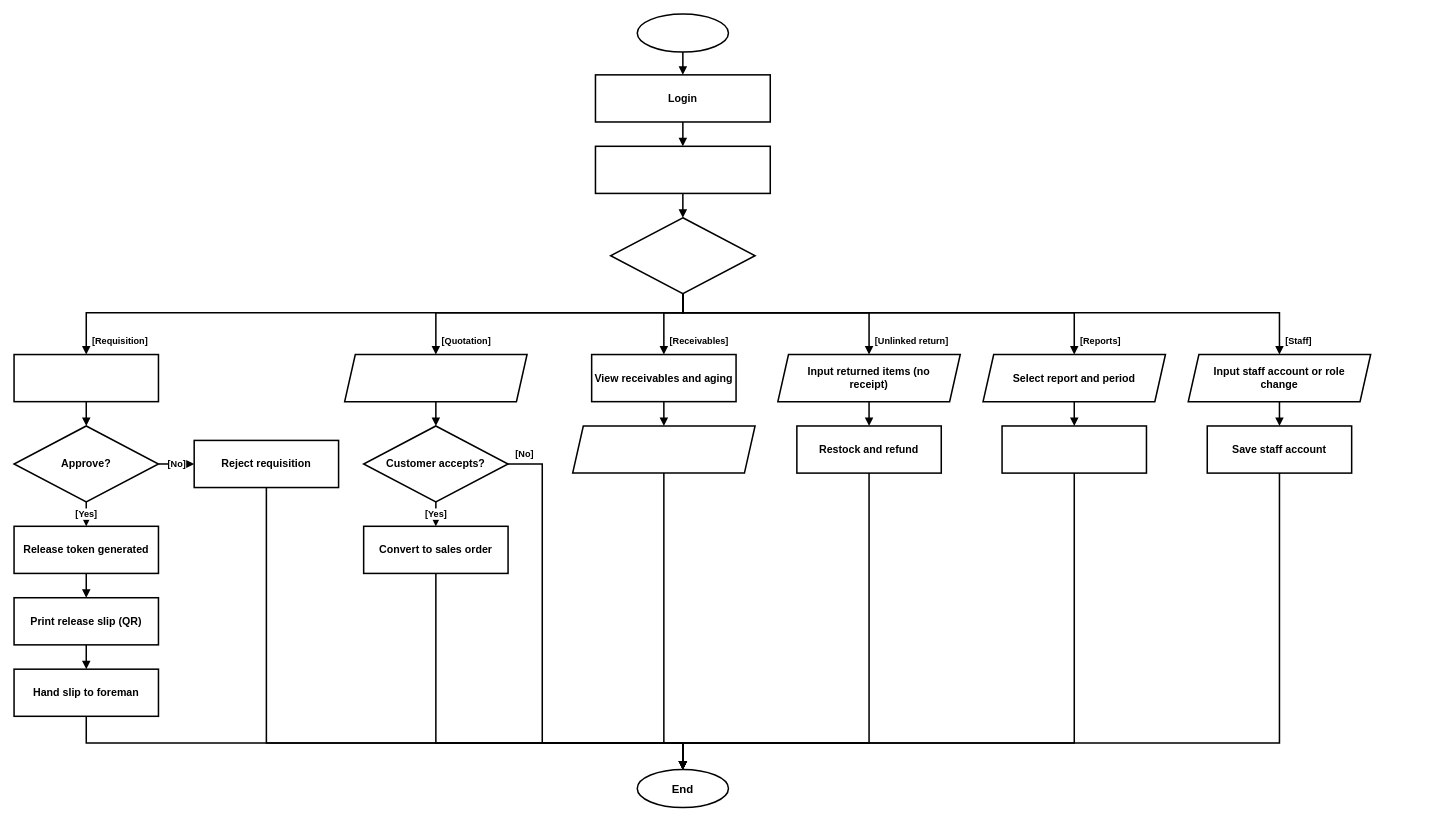
This 1441x821 diagram has some shape labels left out. Here are the shapes that lost their labels. From the top down, the centre of each, then its label:
At (682,32): "Start".
At (682,169): "View sales dashboard".
At (682,255): "Task?".
At (86,377): "Review submitted requisition".
At (435,377): "Input quotation: customer, items".
At (663,449): "Record payment".
At (1074,449): "View sales, inventory, movements, requisitions".
